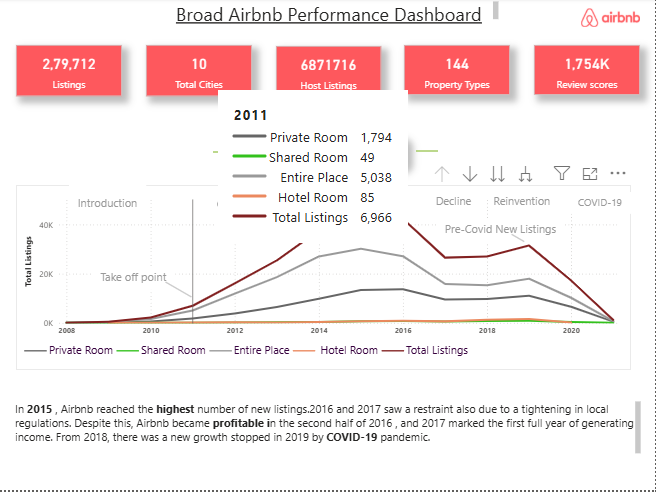

What the dashboard file says about the page in this screenshot:
{"tool":"powerbi","page":{"name":"Overview","canvas":[960,720],"ordinal":0},"visuals":[{"type":"textbox","box":[223.9,0,512.2,46.8],"z":0},{"type":"image","box":[840,10.2,109.8,36.6],"z":1000},{"type":"card","fields":{"Values":["CountNonNull(Listings.listing_id)"]},"box":[24.9,68.8,155.1,74.6],"z":2000},{"type":"card","fields":{"Values":["Sum(Listings.review_scores_value)"]},"box":[782.9,68.8,155.1,73.2],"z":3000},{"type":"card","fields":{"Values":["Count(Listings.property_type)"]},"box":[593,68.8,155.1,73.2],"z":4000},{"type":"card","fields":{"Values":["Sum(Listings.host_total_listings_count)"]},"box":[404.6,70.2,153.7,73.2],"z":5000},{"type":"card","fields":{"Values":["Count(Listings.city)"]},"box":[214.8,68.8,155.1,74.6],"z":6000},{"type":"lineChart","fields":{"Category":["Listings.host_since.Variation.Date Hierarchy.Year","Listings.host_since.Variation.Date Hierarchy.Quarter","Listings.host_since.Variation.Date Hierarchy.Month","Listings.host_since.Variation.Date Hierarchy.Day"],"Y":["Listings.Private Room","Listings.Shared Room","Listings.Entir Place","Sum(Listings.Hotel Room)","CountNonNull(Listings.listing_id)"]},"box":[24.9,273.7,900,270.7],"z":7000},{"type":"textbox","box":[365.9,202,229.8,45.4],"z":8000},{"type":"shape","box":[313.2,202,32.2,46.8],"z":9000},{"type":"shape","box":[610.2,200.5,32.2,46.8],"z":10000},{"type":"textbox","box":[102.4,273.7,112.7,30.7],"z":11000},{"type":"textbox","box":[267.8,180,82,41],"z":12000},{"type":"textbox","box":[102.4,283.9,112.7,38],"z":13000},{"type":"textbox","box":[305.9,285.4,77.6,35.1],"z":14000},{"type":"textbox","box":[491.7,275.1,77.6,30.7],"z":15000},{"type":"textbox","box":[626.3,281,77.6,39.5],"z":16000},{"type":"textbox","box":[718.5,281,102.4,35.1],"z":17000},{"type":"textbox","box":[834.1,283.9,90.7,32.2],"z":18000},{"type":"textbox","box":[136.1,392.2,121.5,35.1],"z":19000},{"type":"textbox","box":[399.5,291.2,92.2,32.2],"z":20000},{"type":"textbox","box":[642.4,322,182.9,38],"z":21000},{"type":"shape","box":[242.9,409.8,39.5,33.7],"z":22000},{"type":"shape","box":[749.3,342.4,20.5,17.6],"z":23000},{"type":"shape","box":[491.7,281,33.7,51.2],"z":24000},{"type":"textbox","box":[19,585.4,924.9,87.8],"z":25000}]}

Visuals, with their boxes in screenshot pixels (x1, y1, x2, y2), scaled from the page's 960x720 canvas onto the 656x492 screenshot:
textbox: 153, 0, 503, 32
image: 574, 7, 649, 32
card - CountNonNull(Listings.listing_id): 17, 47, 123, 98
card - Sum(Listings.review_scores_value): 535, 47, 641, 97
card - Count(Listings.property_type): 405, 47, 511, 97
card - Sum(Listings.host_total_listings_count): 276, 48, 382, 98
card - Count(Listings.city): 147, 47, 253, 98
lineChart - Listings.host_since.Variation.Date Hierarchy.Year x Listings.host_since.Variation.Date Hierarchy.Quarter: 17, 187, 632, 372
textbox: 250, 138, 407, 169
shape: 214, 138, 236, 170
shape: 417, 137, 439, 169
textbox: 70, 187, 147, 208
textbox: 183, 123, 239, 151
textbox: 70, 194, 147, 220
textbox: 209, 195, 262, 219
textbox: 336, 188, 389, 209
textbox: 428, 192, 481, 219
textbox: 491, 192, 561, 216
textbox: 570, 194, 632, 216
textbox: 93, 268, 176, 292
textbox: 273, 199, 336, 221
textbox: 439, 220, 564, 246
shape: 166, 280, 193, 303
shape: 512, 234, 526, 246
shape: 336, 192, 359, 227
textbox: 13, 400, 645, 460
